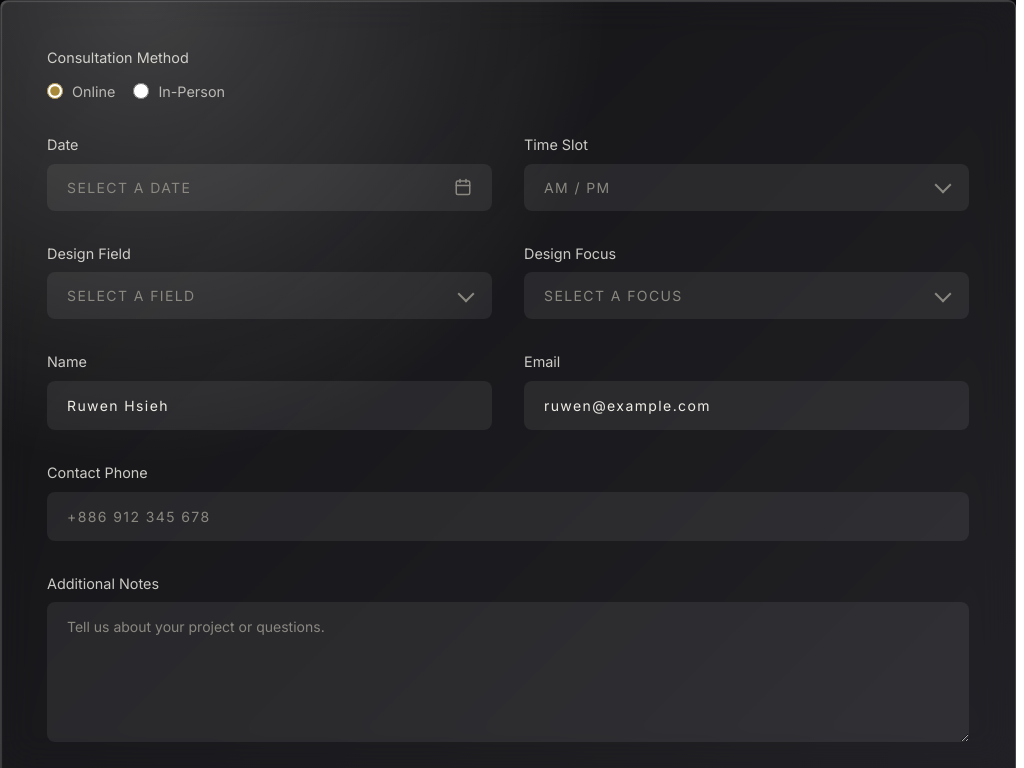
RecommendationPanel › disables dates when both AM and PM are unavailable
The image size is (1024, 768).
Click the button with class "recommendation-panel__date-trigger" at (129, 187), box [47,164,492,211]
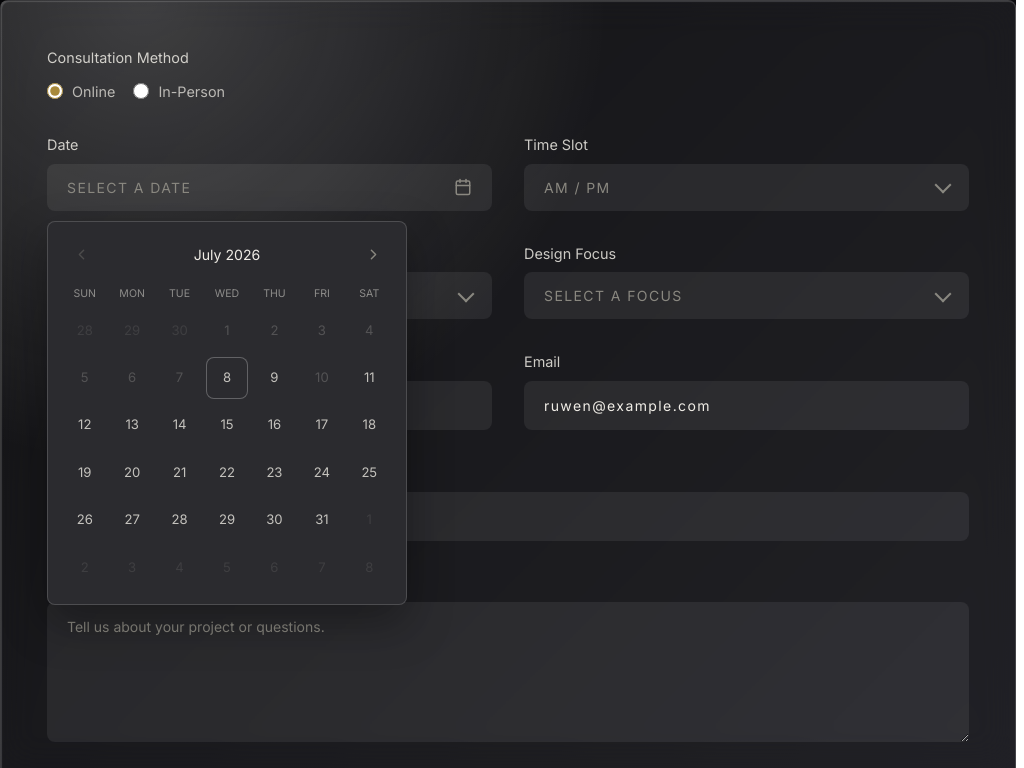
Check: the button with class "recommendation-panel__calendar-day" showing "10" is disabled, box [301,357,342,398]
